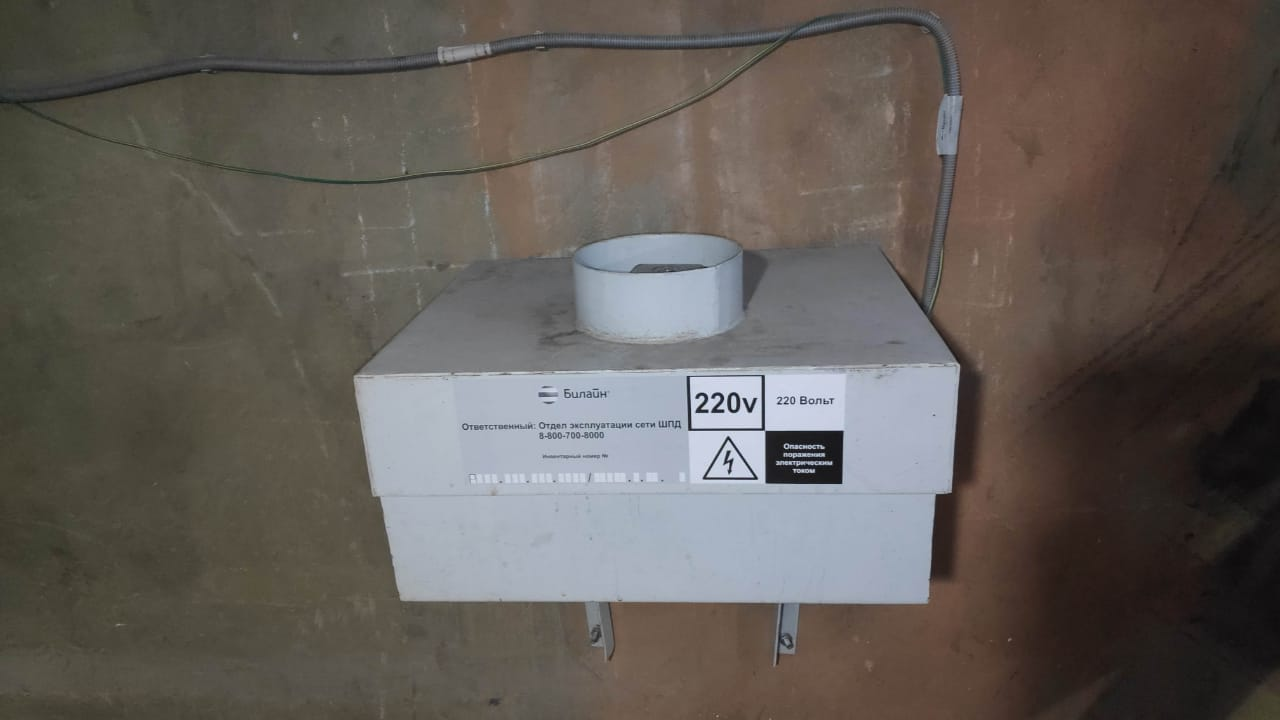shta-ps: (327, 217, 990, 628)
